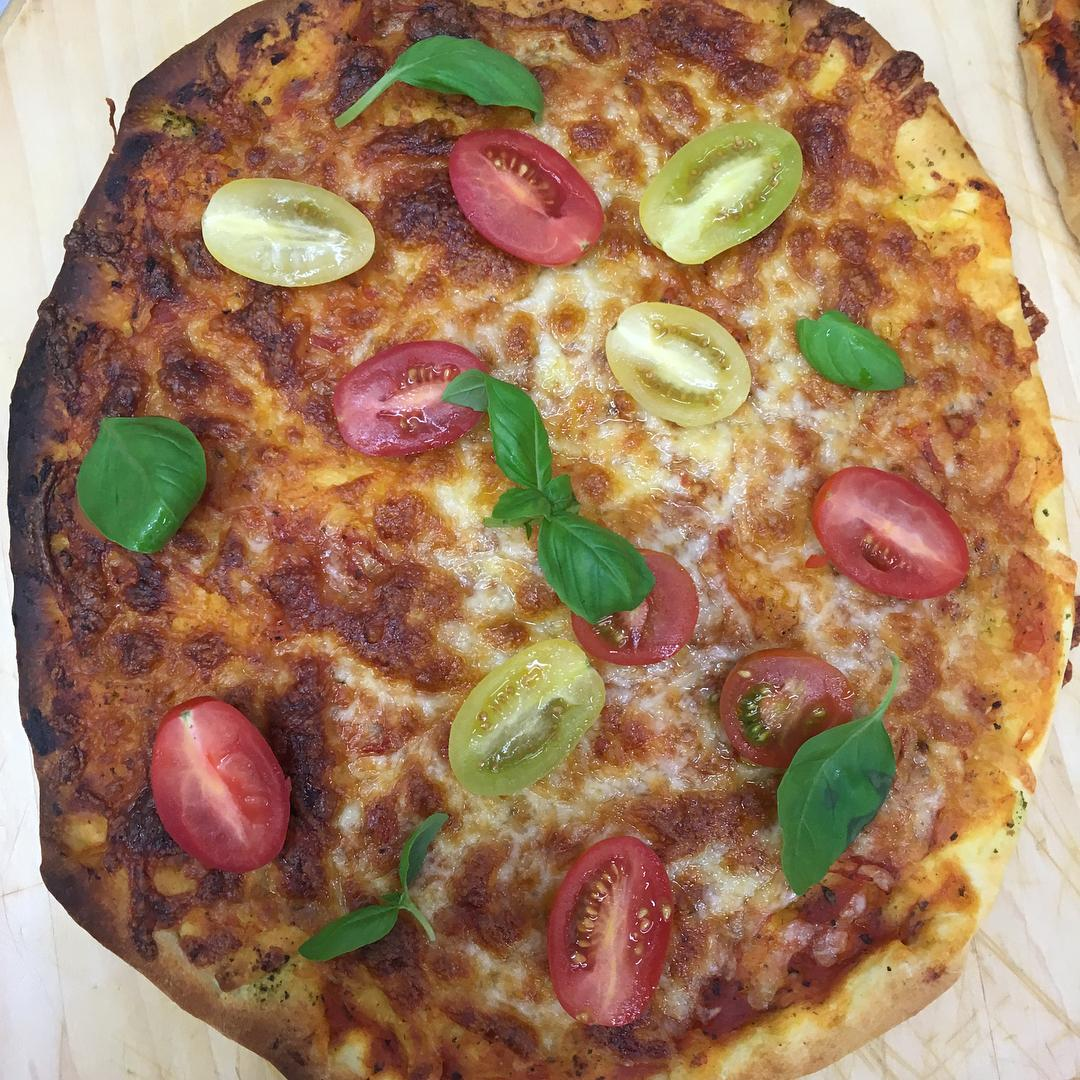Basil: (491, 369, 628, 613), (752, 706, 905, 917), (317, 809, 464, 975), (297, 35, 560, 110), (79, 417, 212, 549), (801, 305, 922, 402)
Pizza: (0, 0, 1079, 1080)
Tomatoes: (817, 473, 994, 617), (139, 703, 286, 876), (553, 861, 704, 1023), (430, 654, 609, 789), (641, 125, 817, 262), (195, 179, 394, 289), (445, 135, 617, 262), (591, 303, 757, 428), (693, 651, 864, 756), (329, 347, 485, 453), (573, 549, 704, 662)
